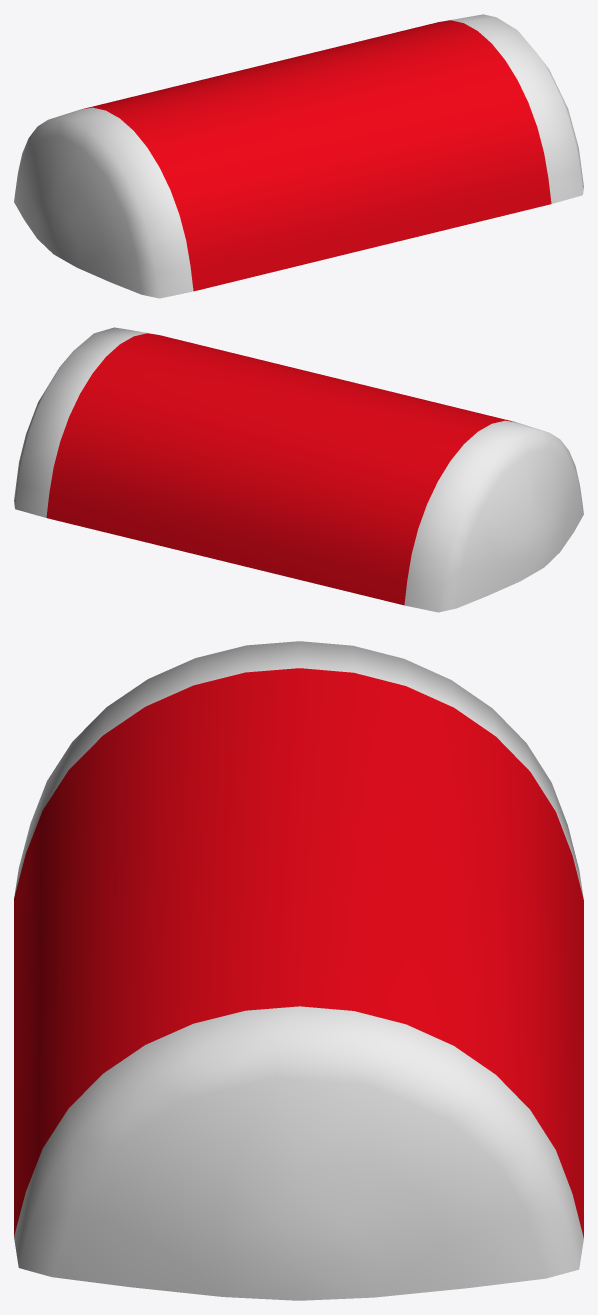
Rendered from Note_Normal.fbx.
The picture shows the model from 3 angles, top to bottom: view 1: azimuth 30°, elevation 25°; view 2: azimuth 150°, elevation 25°; view 3: azimuth 270°, elevation 25°; orthographic projection. The views are drawn at different scales.
Visible parts, largest first — view 1: Normal; view 2: Normal; view 3: Normal.
Boxes of the visible parts, x1,y1,x2,y2 form: Normal: (14,14,583,298); Normal: (14,327,583,612); Normal: (14,641,583,1300).
Bounding box in the file's own units: 193 × 45.02 × 100.
